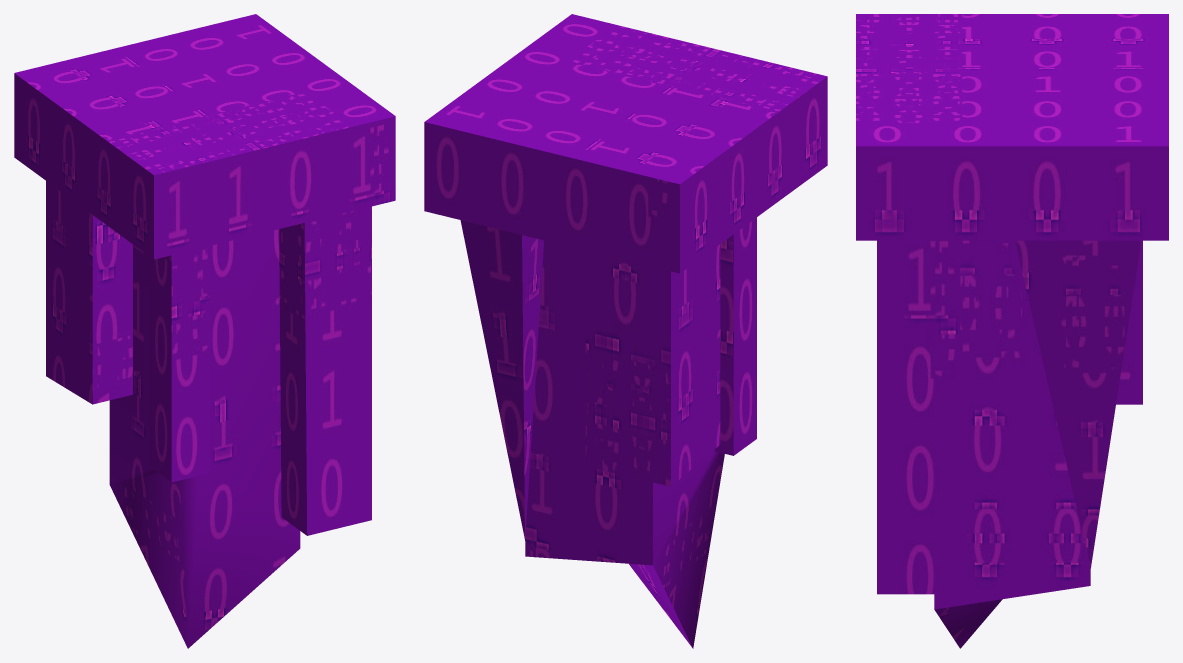
The model's file is Collectable.fbx.
The picture shows the model from 3 angles, left to right: view 1: azimuth 30°, elevation 25°; view 2: azimuth 150°, elevation 25°; view 3: azimuth 270°, elevation 25°; orthographic projection. The views are drawn at different scales.
Visible parts, largest first — view 1: Collectable; view 2: Collectable; view 3: Collectable.
Part boxes in pixels (x1,y1,x2,y2): Collectable: (14, 14, 395, 648); Collectable: (424, 14, 827, 648); Collectable: (856, 14, 1168, 648).
Bounding box in the file's own units: 3 × 6.25 × 3.
Materials: 1 (1 with a texture image).
